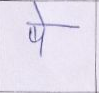e_matra: (32, 1, 48, 23)
